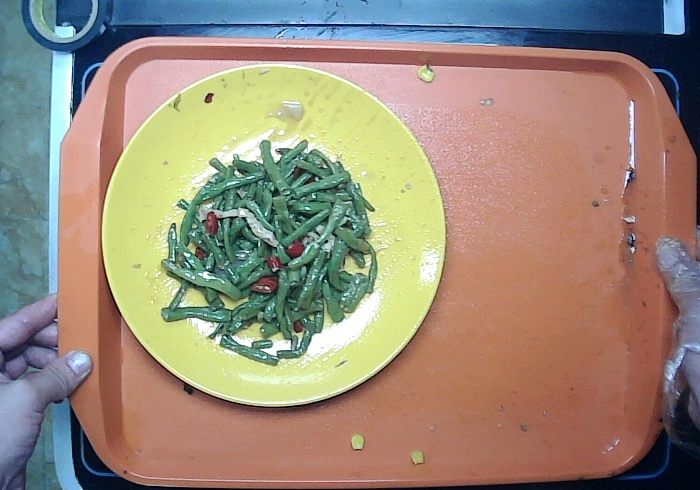HZYJPL-Huang_Se_Yuan_Pan: (102, 63, 450, 410)
